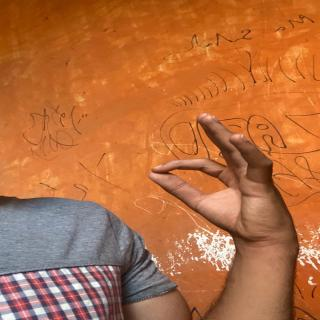Space: (145, 114, 296, 248)
